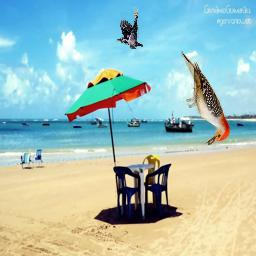Woodpecker: (182, 51, 231, 146), (117, 7, 144, 49)
